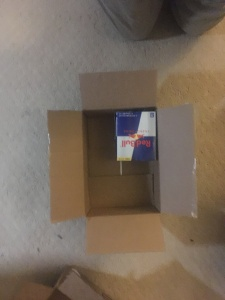innerbox: (82, 109, 163, 214)
outerbox: (49, 72, 197, 253)
product: (115, 110, 157, 162)
